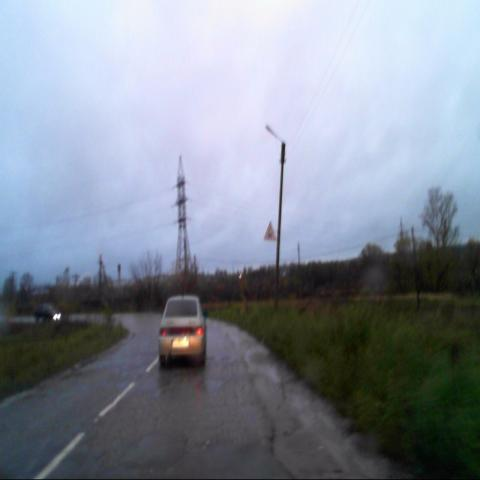1_2: (264, 221, 275, 241)
